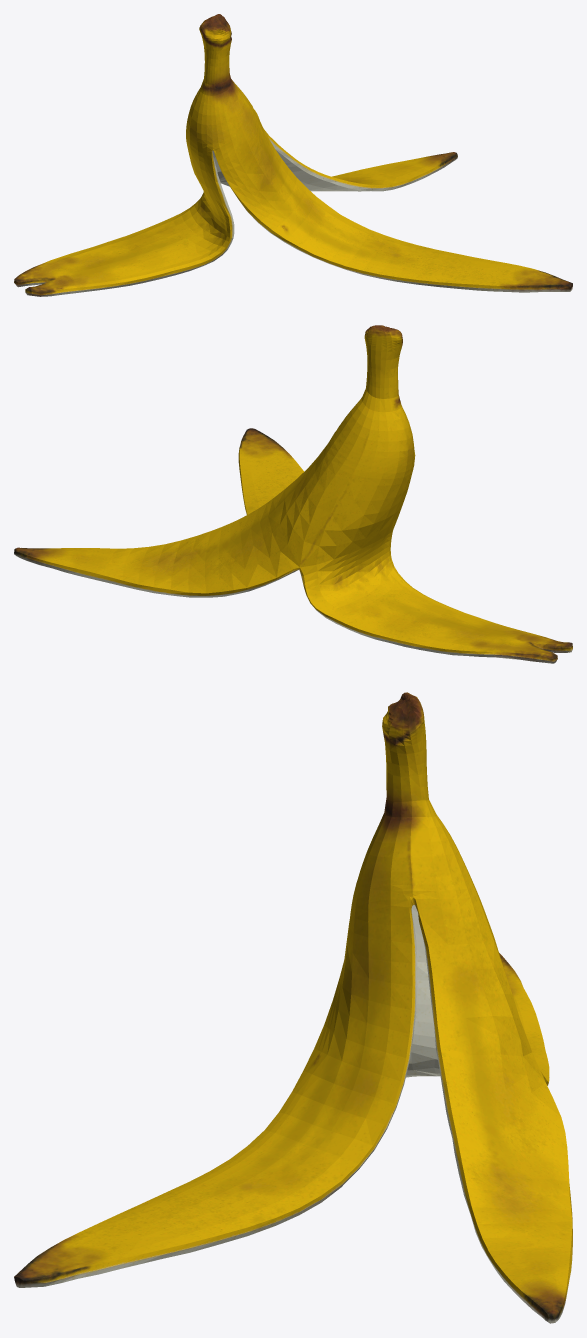
Rendered from kulit pisang.fbx.
3 renders of one model, top to bottom at view 1: azimuth 30°, elevation 25°; view 2: azimuth 150°, elevation 25°; view 3: azimuth 270°, elevation 25°, orthographic. The views are drawn at different scales.
Parts seen in each view (by area): view 1: node_id27; view 2: node_id27; view 3: node_id27.
Part boxes in pixels (x1,y1,x2,y2): node_id27: (14, 14, 572, 296); node_id27: (14, 325, 572, 663); node_id27: (14, 692, 572, 1323).
Size of the model in its own units: 512 by 261 by 326.
1 material, 1 textured.
